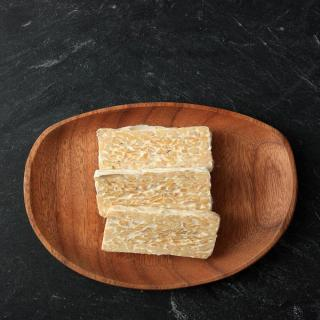Tempe: (24, 102, 298, 290), (101, 206, 222, 260)
